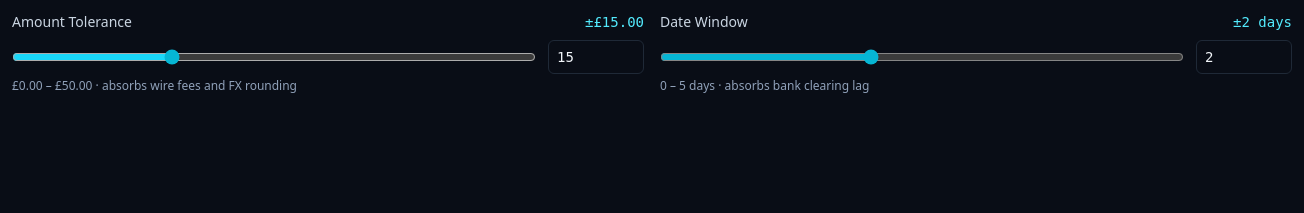
Test: ToleranceControls › says so when the edit would change nothing
Replace the text in the number field named "Amount tolerance, exact value" with "20". click: point(596, 57)
box: x1=548 y1=40 x2=644 y2=74
Wait 250 ms
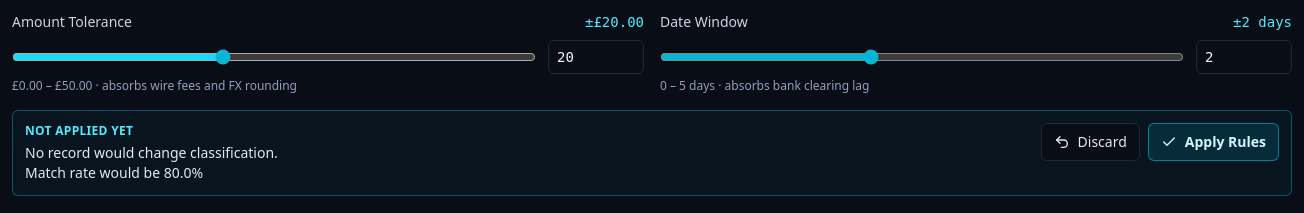
Expected: the text "No record would change classification." is shown, x1=25 y1=143 x2=278 y2=163
